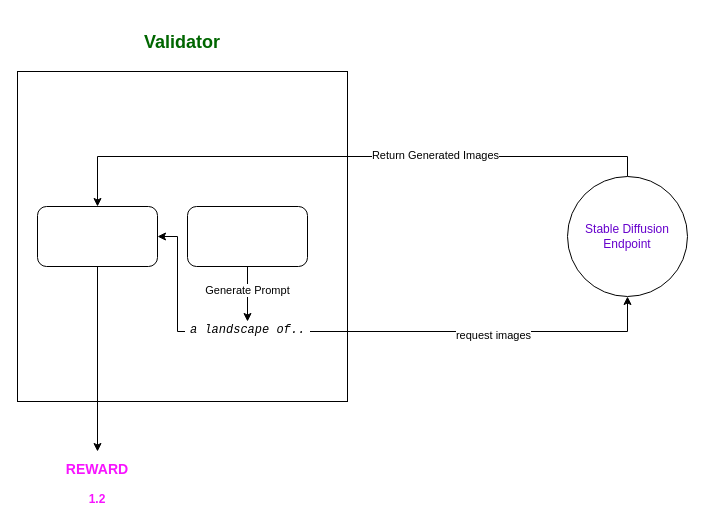
Image size: 705x523. Some labels were removed from this diagram. The centre of each missing label's shape, as x and y in pixels:
"Prompt Generator" goes at point 247,236.
"Rewarder" goes at point 97,236.
